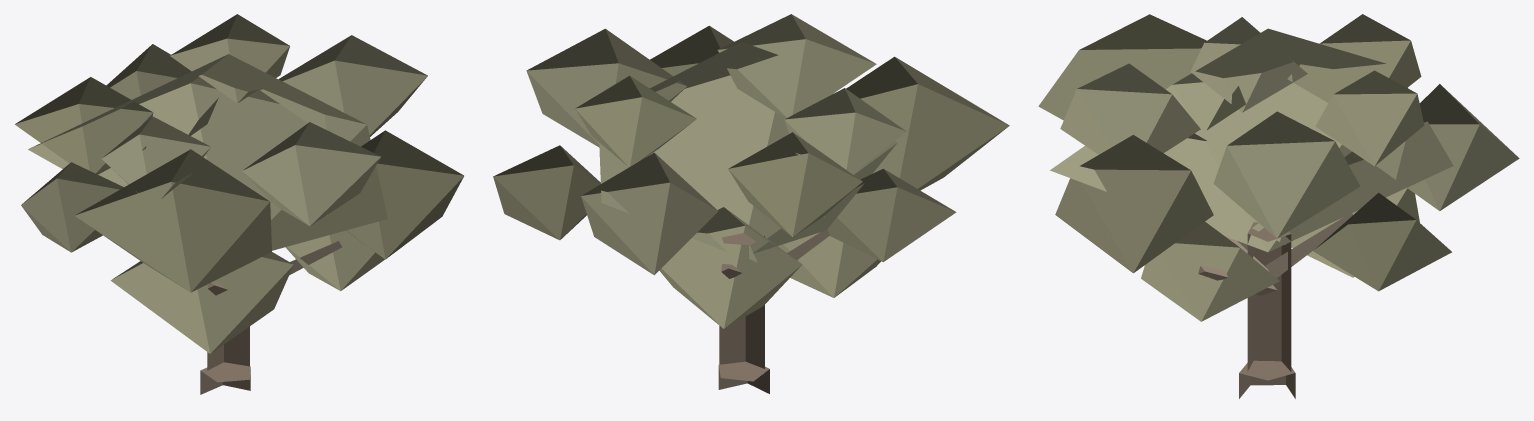
File: tree.temp.willow__winter.glb
The picture shows the model from 3 angles, left to right: view 1: azimuth 30°, elevation 25°; view 2: azimuth 150°, elevation 25°; view 3: azimuth 270°, elevation 25°; orthographic projection. The views are drawn at different scales.
Parts seen in each view (by area): view 1: tree.temp.willow__winter; view 2: tree.temp.willow__winter; view 3: tree.temp.willow__winter.
Part boxes in pixels (x1,y1,x2,y2): tree.temp.willow__winter: (15,14,463,394); tree.temp.willow__winter: (493,14,1009,393); tree.temp.willow__winter: (1038,14,1519,398).
Size of the model in its own units: 12.56 by 10.24 by 12.18.
